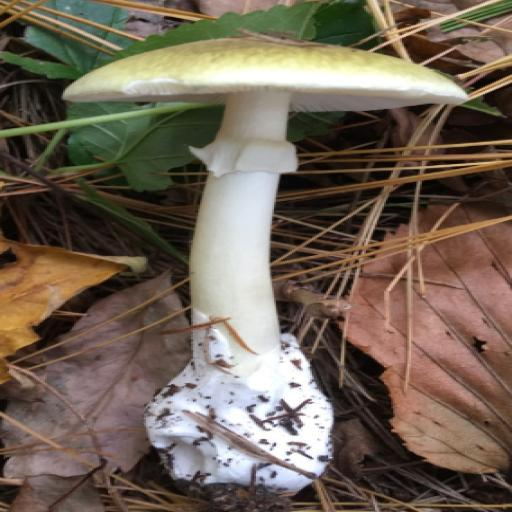mushroom: (0, 0, 464, 512)
